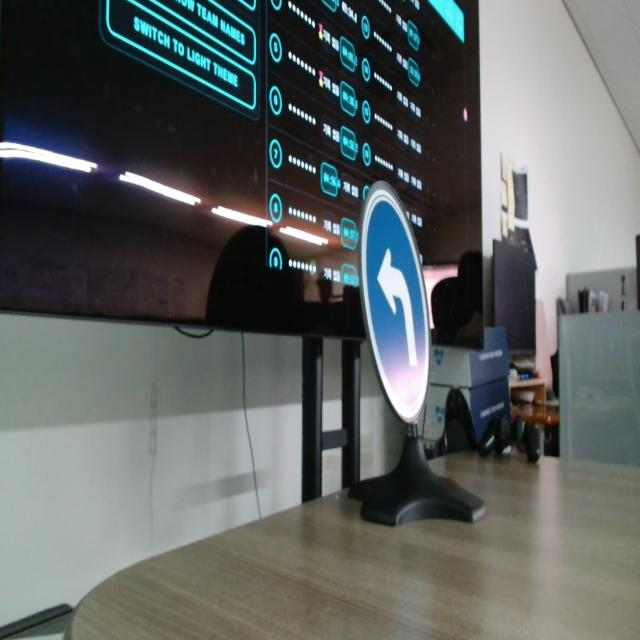left_direction: (352, 164, 447, 446)
